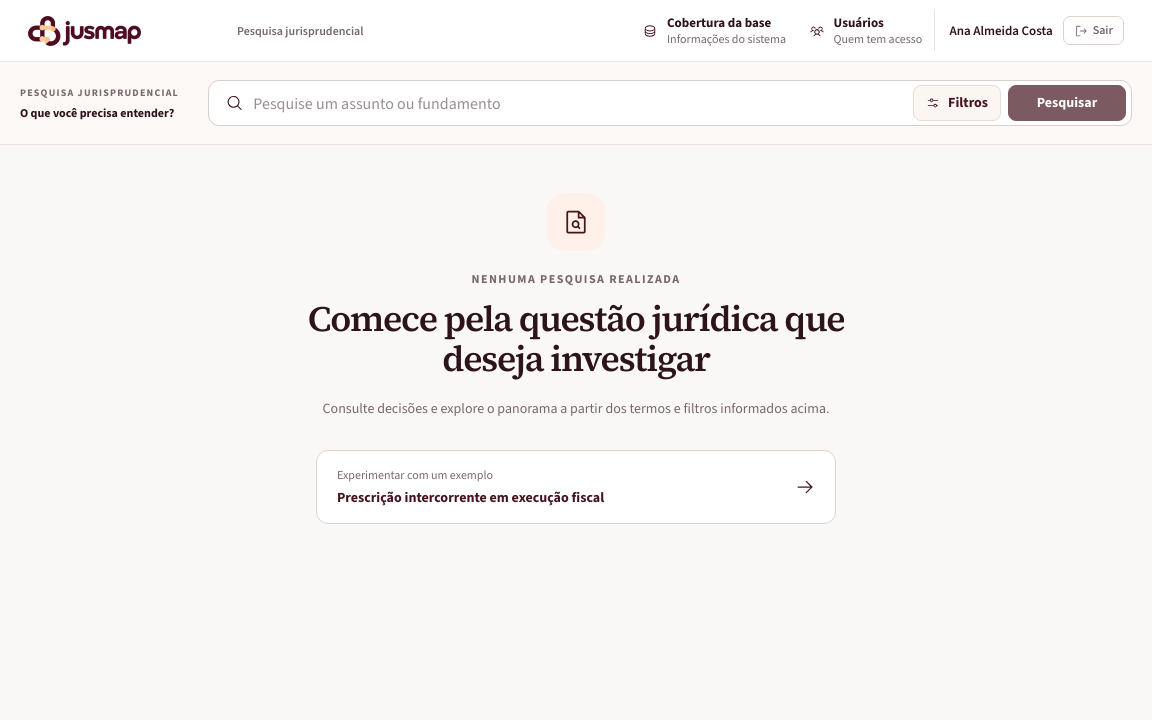
the reordered results › are never replaced by a late answer to an older order
Type "prescrição intercorrente em execução fiscal" into the search field named "Pesquisar decisões" at (578, 103), box [253, 85, 903, 121]
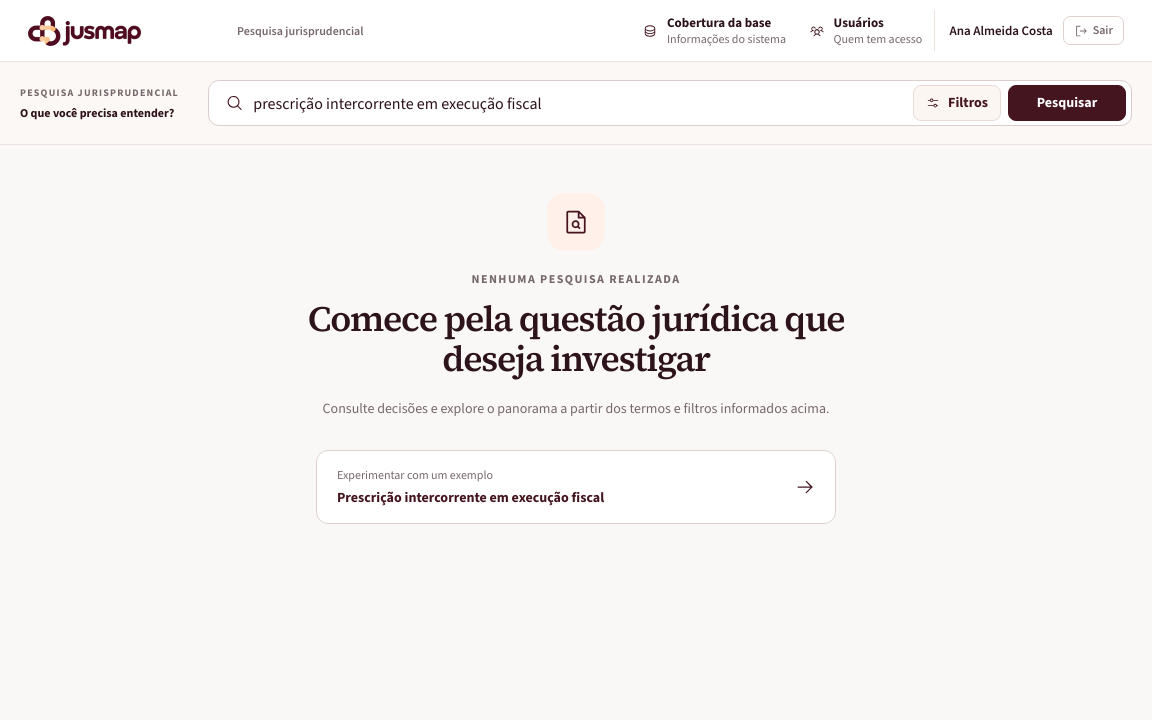
Click the button "Pesquisar" at (1067, 103), box [1008, 85, 1126, 121]
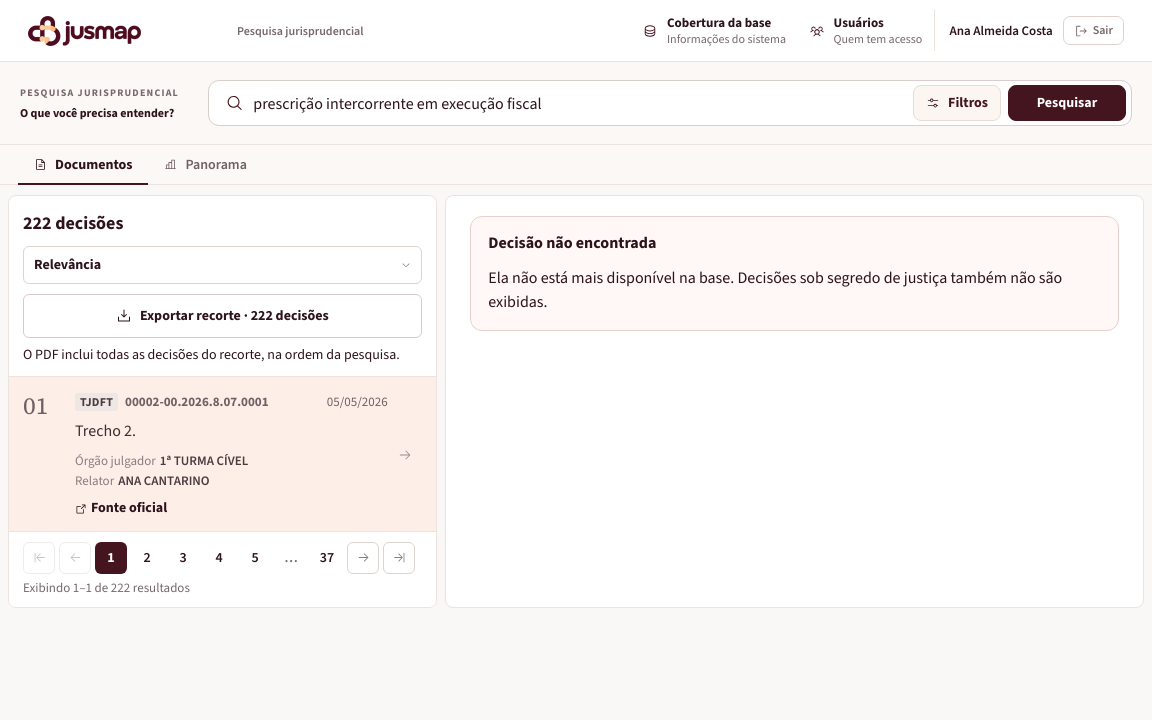
Select "Mais recentes" in the dropdown named "Ordenar por" at (222, 265), box [23, 246, 422, 284]
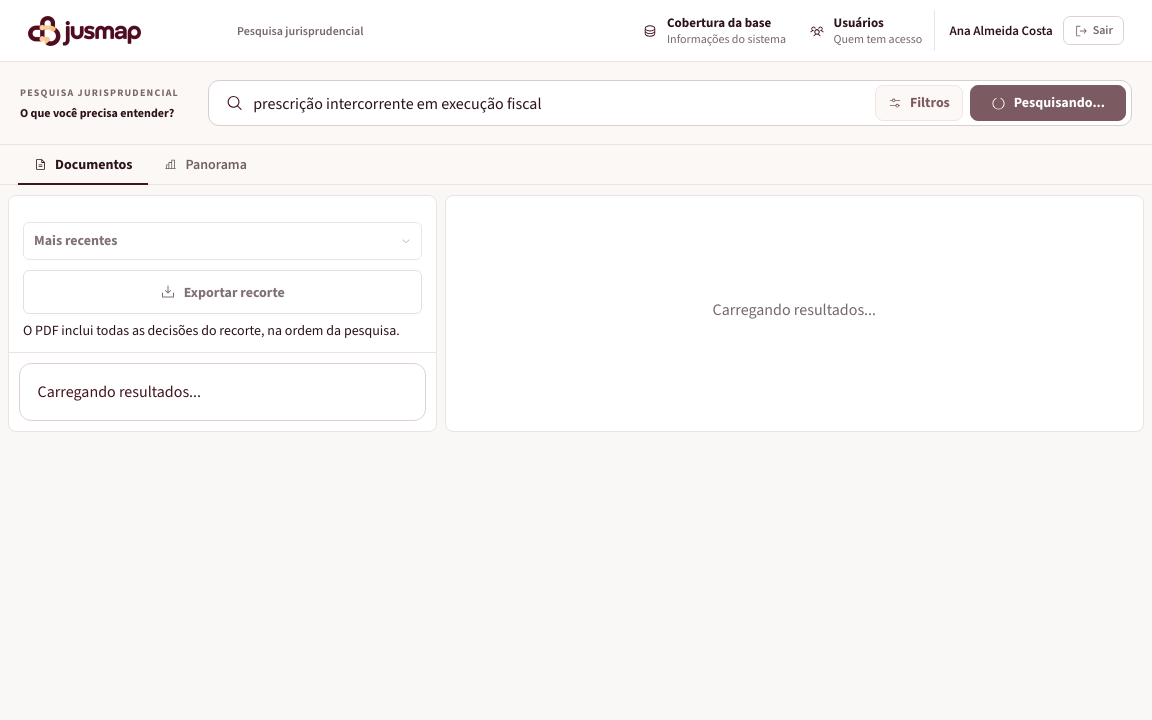
Submit the form "Filtros Pesquisando...", box [208, 80, 1132, 126]
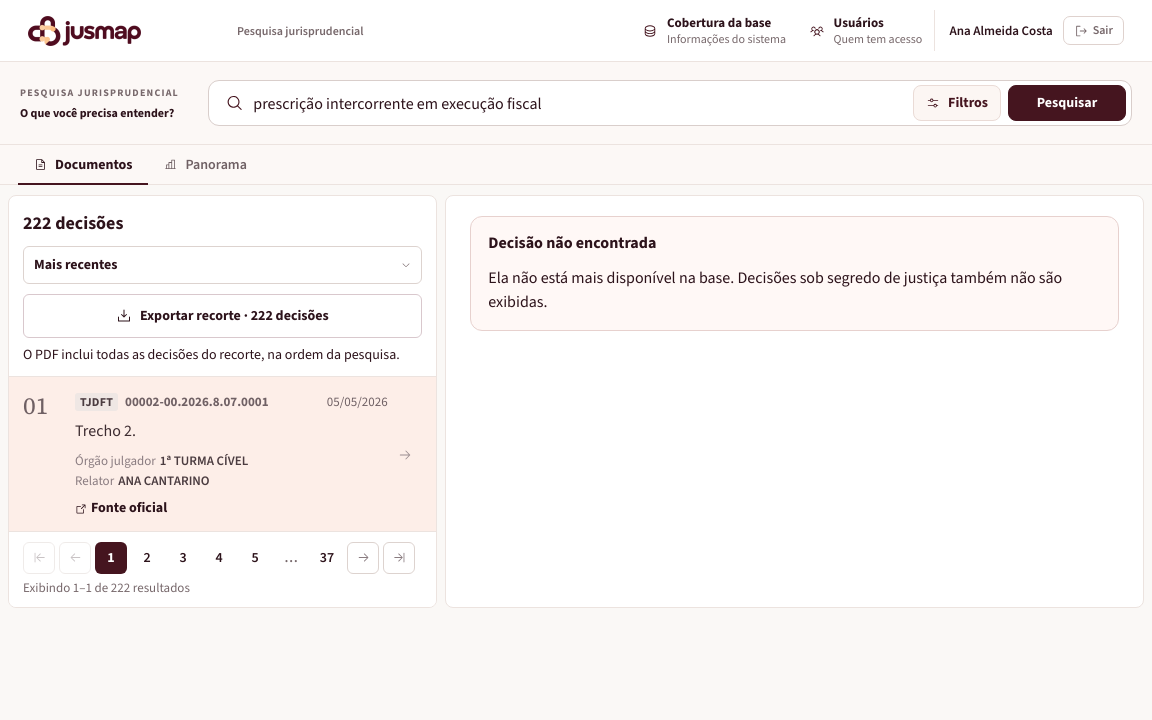
Result: the text "222" is shown at [23, 211, 52, 235]
